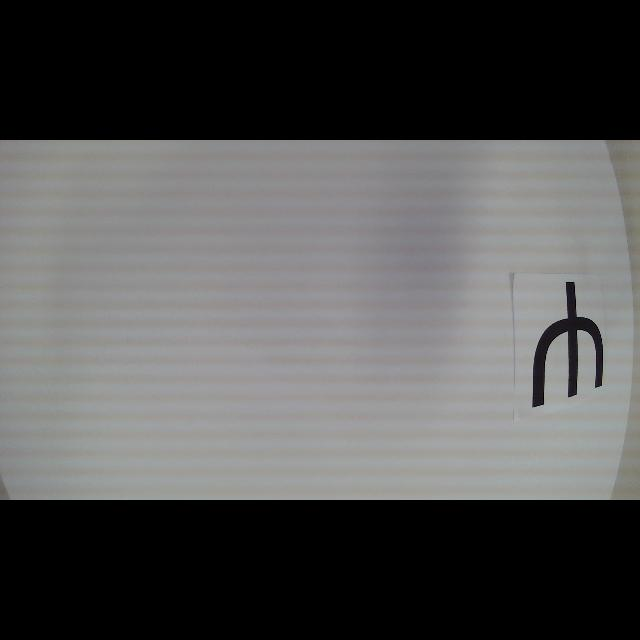PSI: (533, 280, 603, 408)
